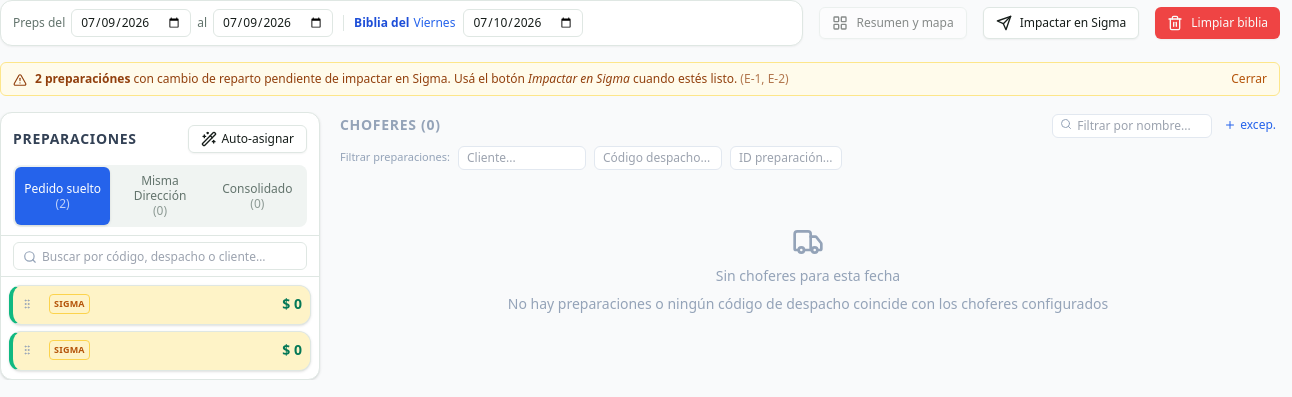
BibleDashboard — banners de estado Sigma › avisa preparaciones pendientes de impactar y permite cerrarlo
Click the button "Cerrar": click(1249, 79) [1231, 71, 1267, 87]
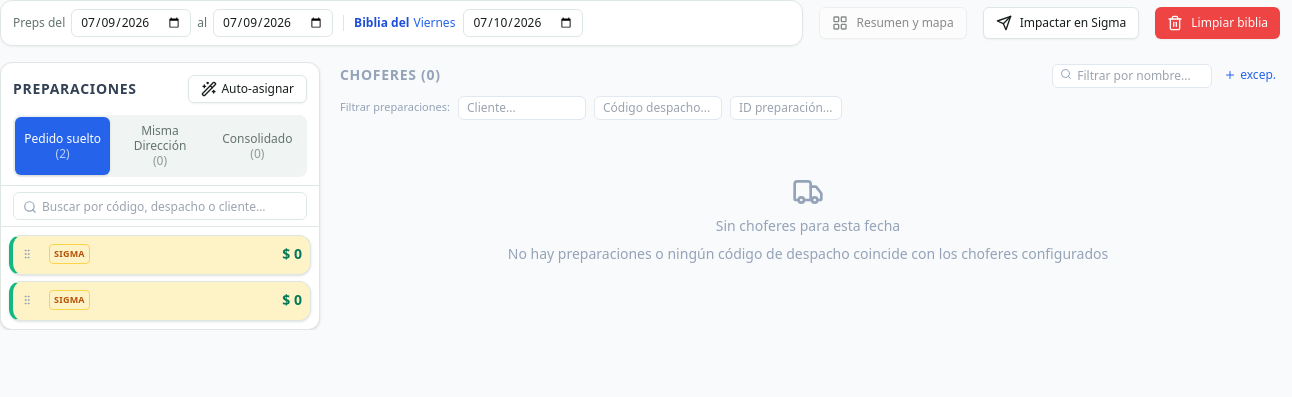
Now the text "pendiente de impactar" is gone
